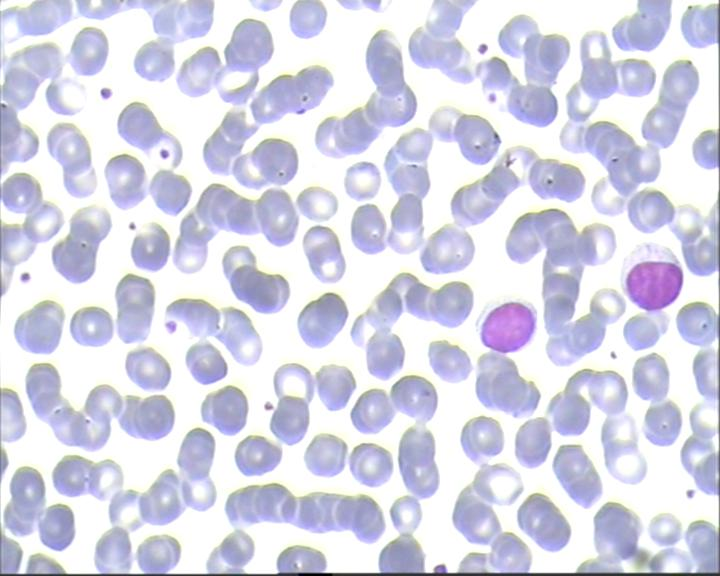lymp: (619, 235, 684, 318), (471, 293, 536, 355)
